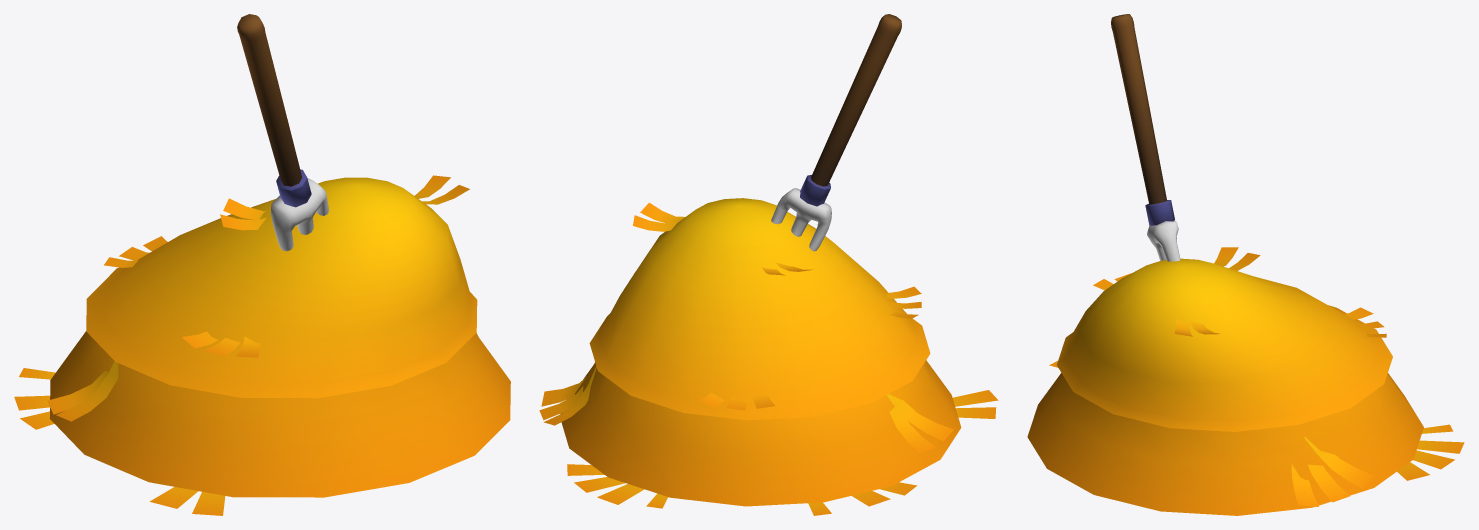
The model's file is MonticuloEno.fbx.
3 renders of one model, left to right at view 1: azimuth 30°, elevation 25°; view 2: azimuth 150°, elevation 25°; view 3: azimuth 270°, elevation 25°, orthographic. The views are drawn at different scales.
Visible parts, largest first — view 1: Eno; view 2: Eno; view 3: Eno.
Boxes of the visible parts, bbox=[...] form: Eno: bbox=[14, 14, 510, 515]; Eno: bbox=[539, 14, 998, 515]; Eno: bbox=[1027, 14, 1464, 515].
Bounding box in the file's own units: 1.82 × 1.9 × 1.83.
